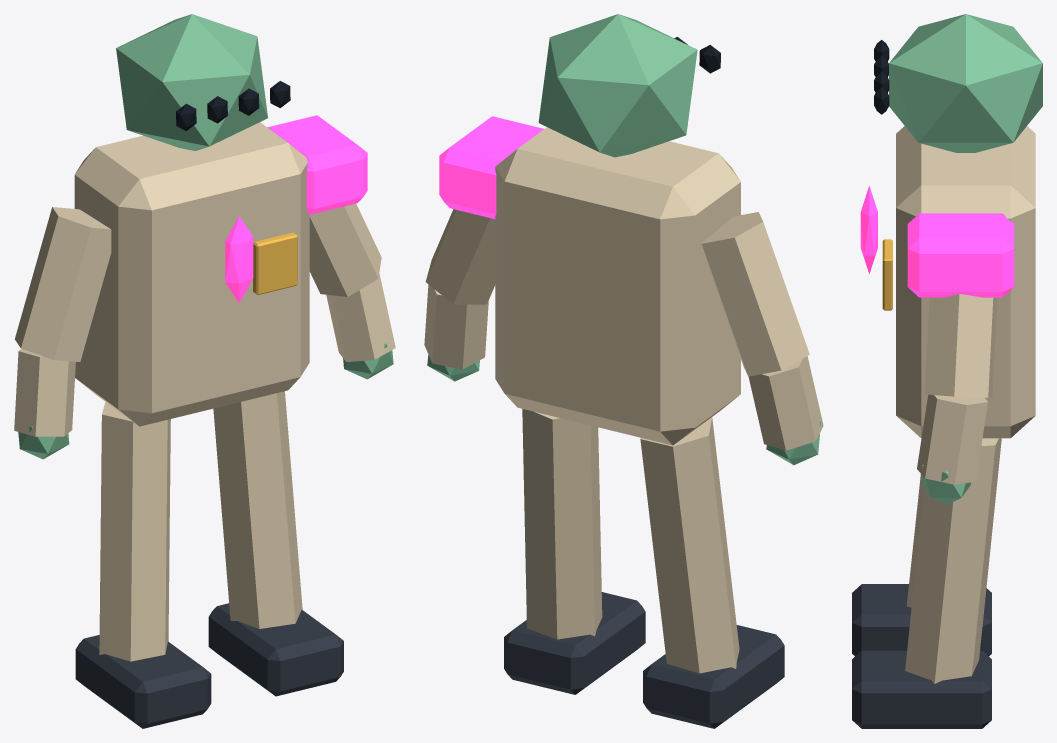
File: npcs_038_seed11.glb
3 views of the same model, side by side, from view 1: azimuth 30°, elevation 25°; view 2: azimuth 150°, elevation 25°; view 3: azimuth 270°, elevation 25° (orthographic). The views are drawn at different scales.
Parts seen in each view (by area): view 1: npcs_038_seed11; view 2: npcs_038_seed11; view 3: npcs_038_seed11.
Boxes of the visible parts, x1,y1,x2,y2 form: npcs_038_seed11: (14, 14, 395, 728); npcs_038_seed11: (424, 14, 823, 728); npcs_038_seed11: (852, 14, 1042, 728).
Size of the model in its own units: 0.9061 by 1.51 by 0.3908.
